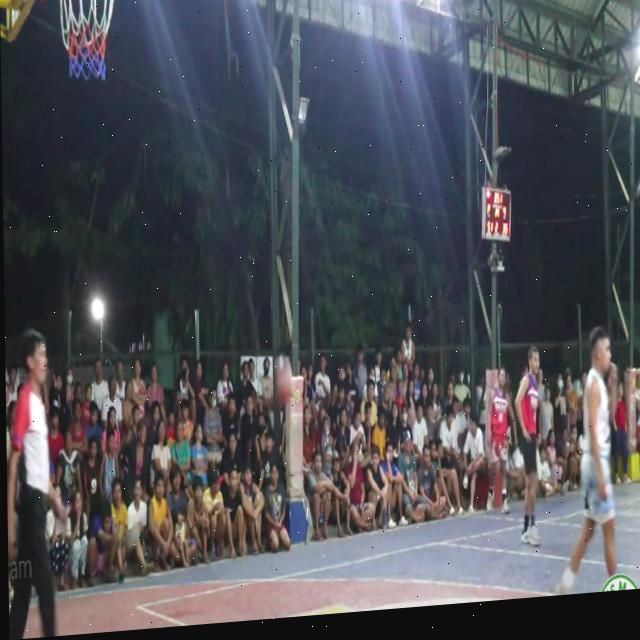basketball: (275, 350, 295, 409)
hoop: (57, 0, 120, 90)
